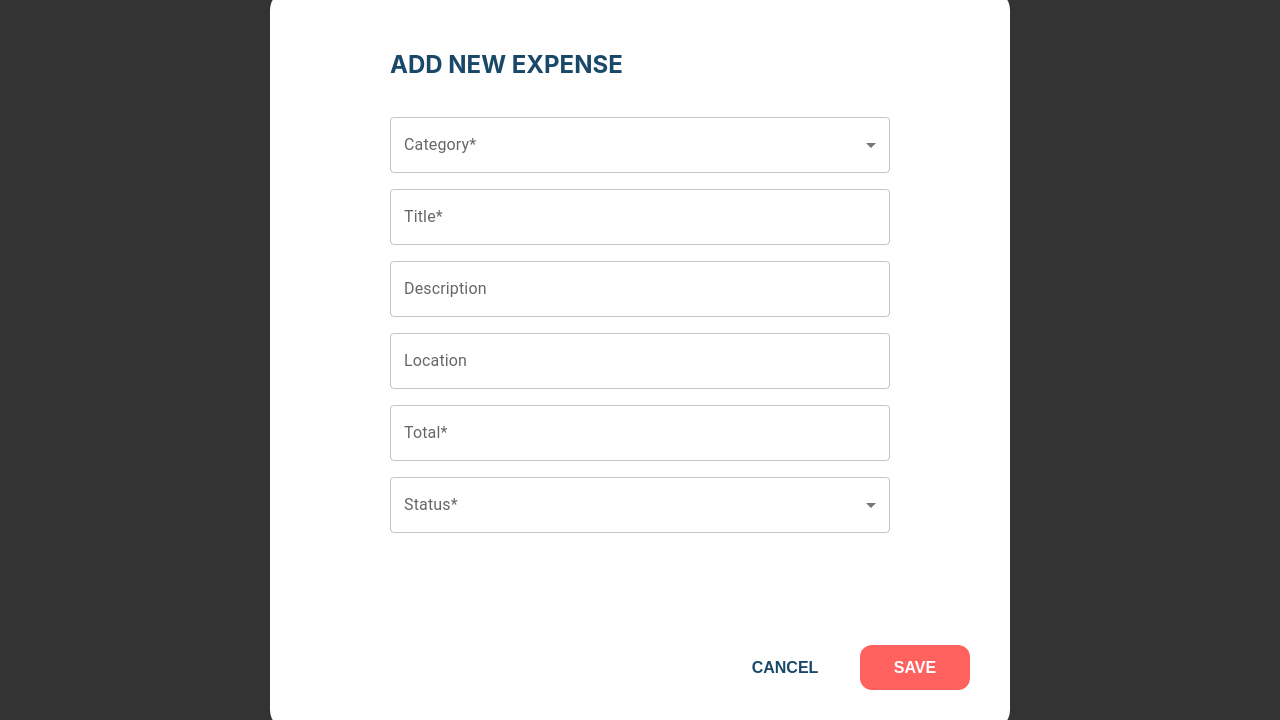
Scenario: AddExpenseModal › render › shows correct status items when clicked
Click the dropdown named "Status*" next to "Status*" at (640, 505), box [390,477,890,533]
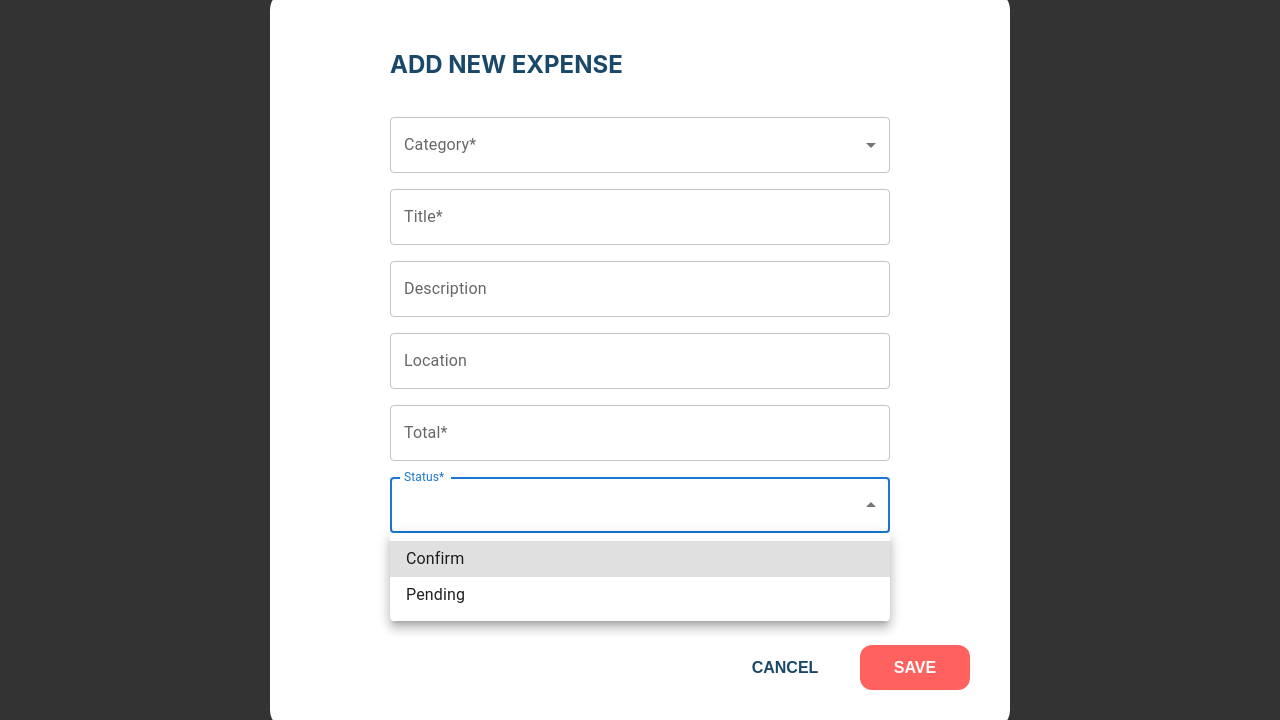
expect the number of options is 2: met, box [390,541,890,577]; [406,585,465,604]
expect the option "Confirm" is shown: met, box [390,541,890,577]
expect the option "Pending" is shown: met, box [406,585,465,604]
